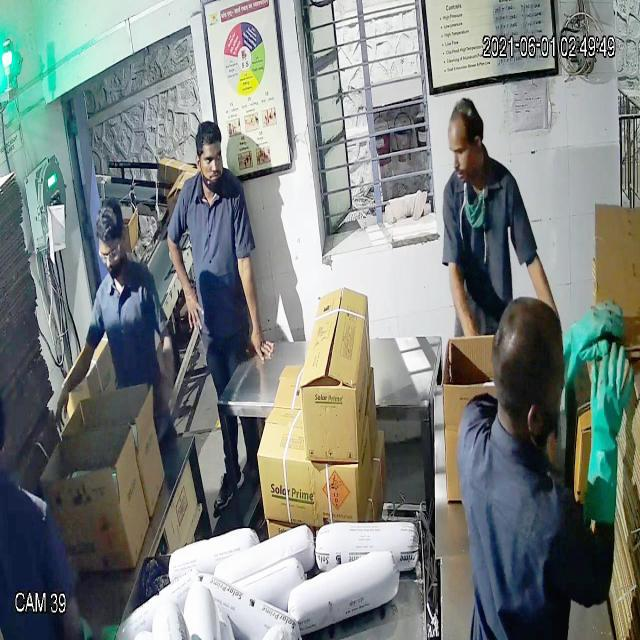glasses: (95, 236, 127, 272)
no-glass: (437, 130, 489, 167), (193, 142, 228, 179)
